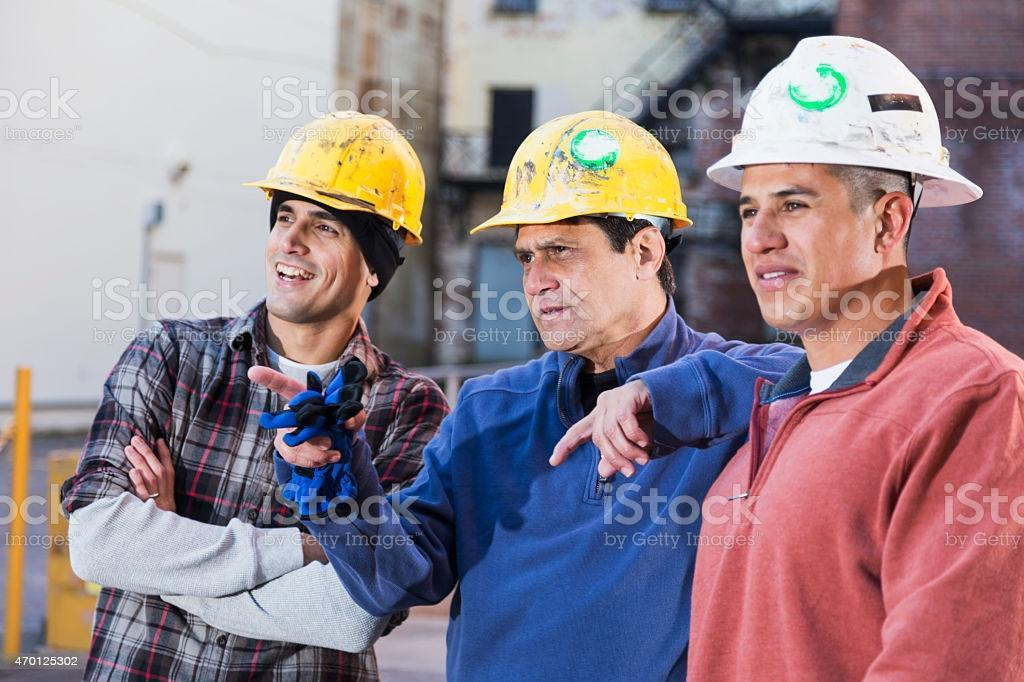hardhat: (707, 37, 986, 208), (472, 111, 695, 234), (243, 111, 437, 246)
worker: (257, 111, 795, 680), (688, 35, 1024, 680), (67, 110, 445, 680)
